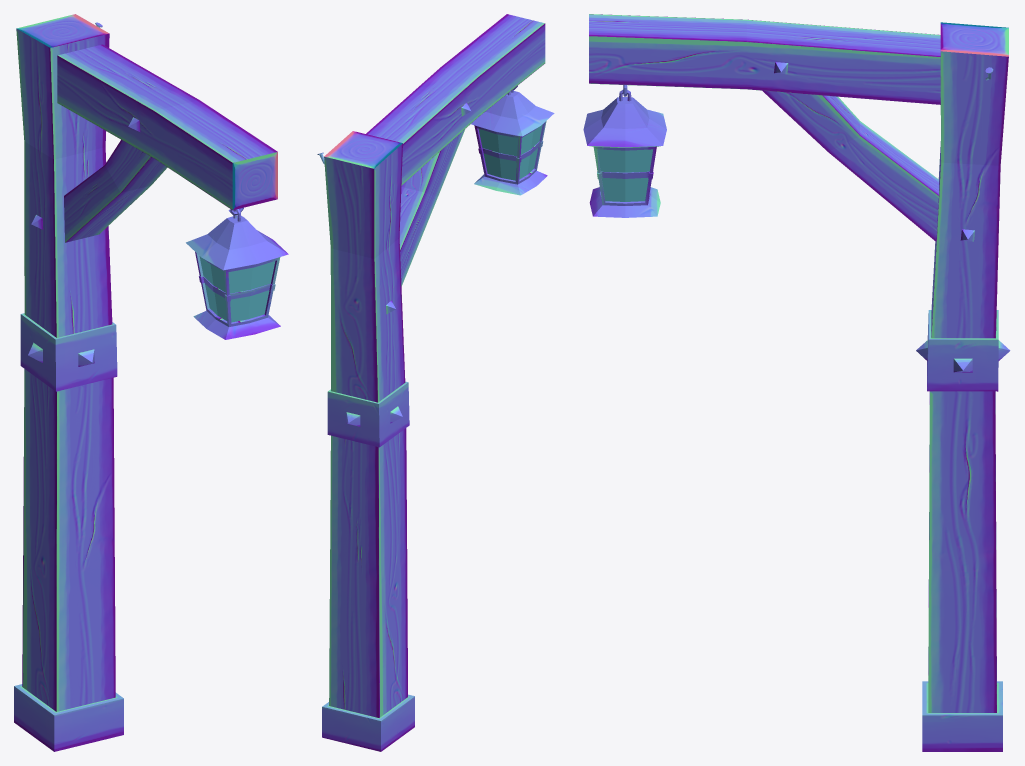
Rendered from Sm_Lantern_A.fbx.
3 renders of one model, left to right at view 1: azimuth 30°, elevation 25°; view 2: azimuth 150°, elevation 25°; view 3: azimuth 270°, elevation 25°, orthographic. The views are drawn at different scales.
Visible parts, largest first — view 1: SM_Lantern_A; view 2: SM_Lantern_A; view 3: SM_Lantern_A.
Part boxes in pixels (bbox=[...]): SM_Lantern_A: bbox=[14, 14, 288, 751]; SM_Lantern_A: bbox=[317, 14, 554, 751]; SM_Lantern_A: bbox=[583, 14, 1010, 751].
Bounding box in the file's own units: 25.12 × 194 × 106.
